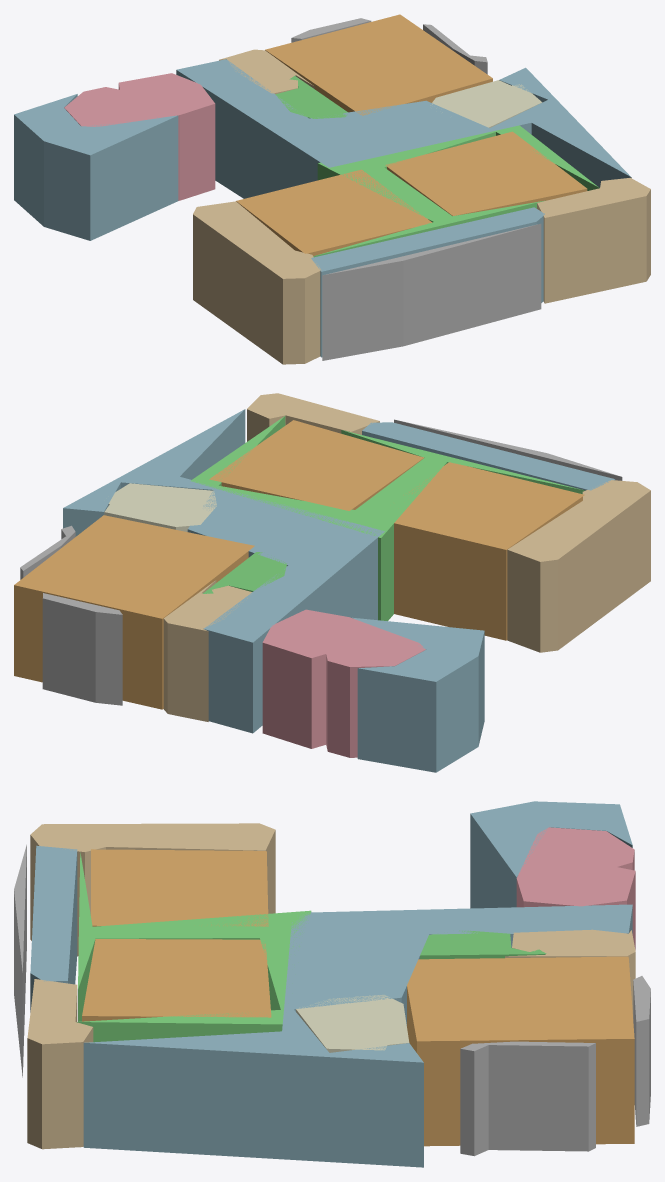
The model's file is Capture d’écran 2025-06-05 224143.obj.
3 renders of one model, top to bottom at view 1: azimuth 30°, elevation 25°; view 2: azimuth 150°, elevation 25°; view 3: azimuth 270°, elevation 25°, orthographic. The views are drawn at different scales.
Bounding box in the file's own units: 13.34 × 2.5 × 13.75.
